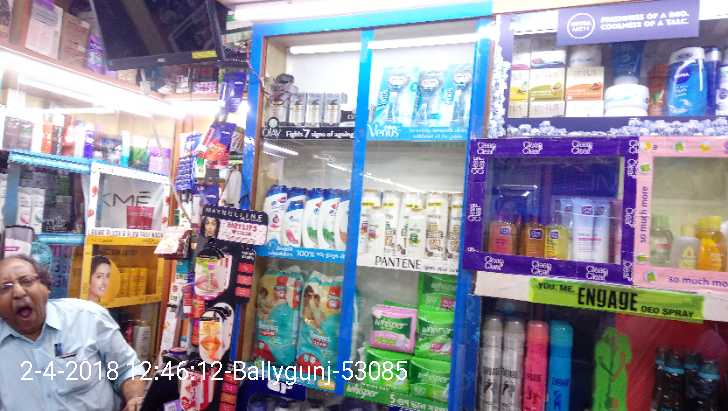venus: (376, 64, 419, 125), (441, 63, 473, 127), (421, 69, 440, 127)
